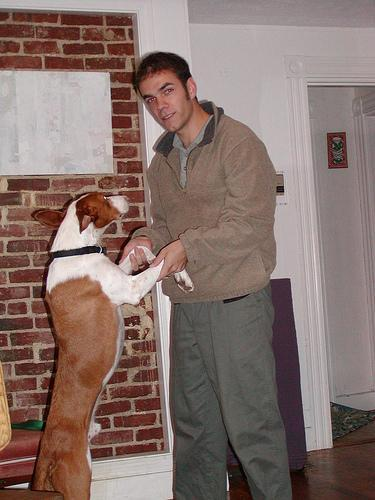Ibizan_hound: (3, 188, 195, 498)
